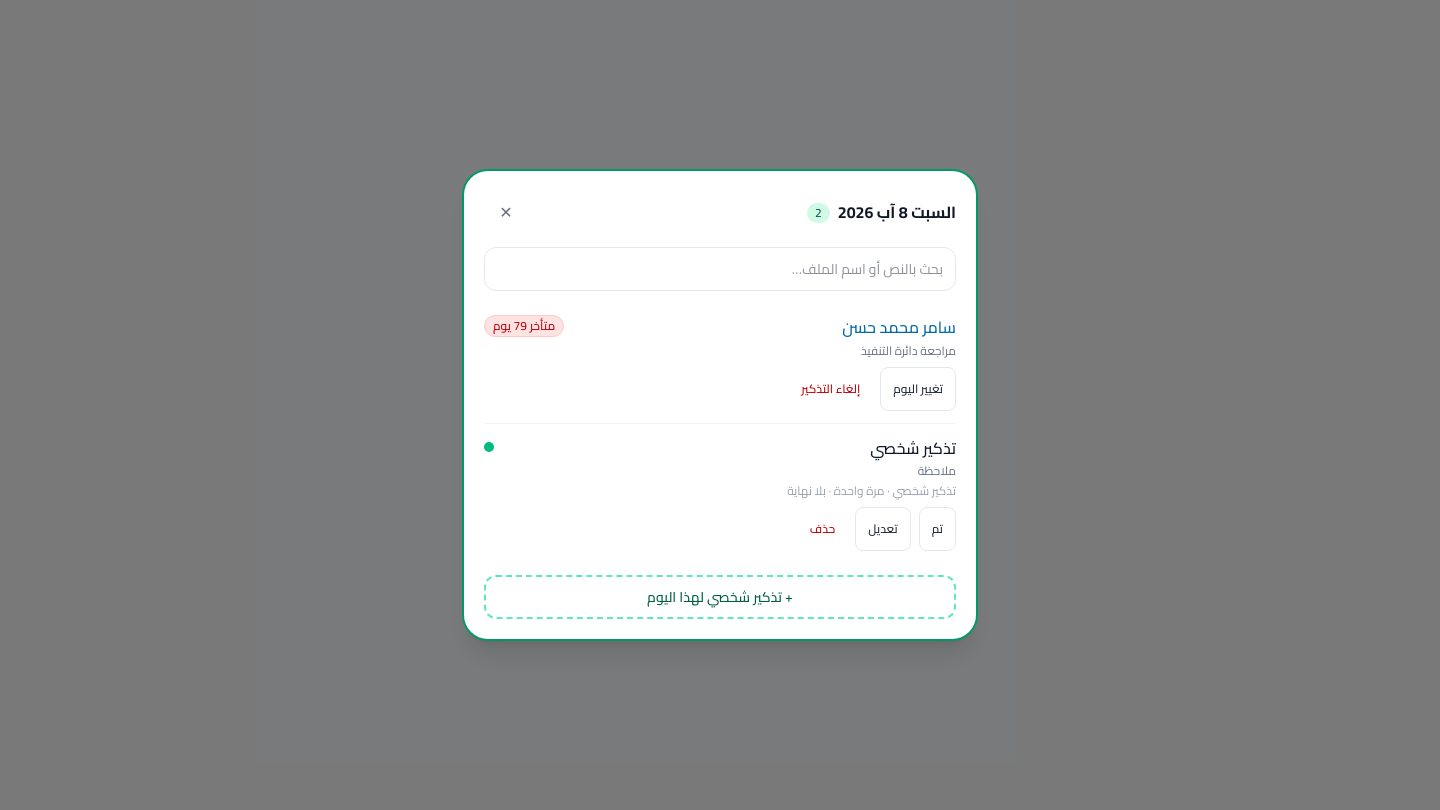
Test: DayRemindersModal › يصفّي بالبحث النصي
Type "شخصي" into the search field with placeholder "بحث بالنص أو اسم الملف…" at (720, 269), box [484,247,956,291]
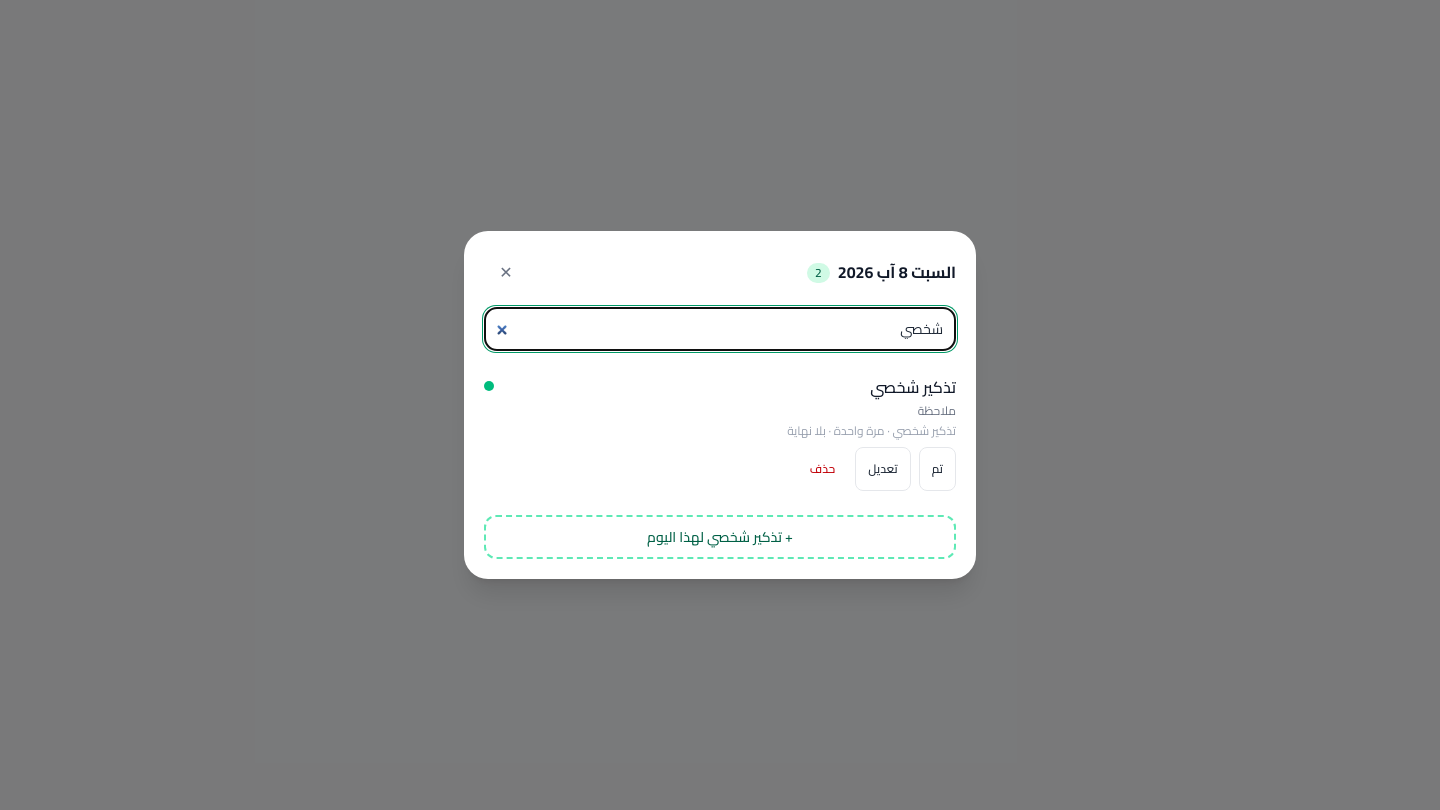
Expected: the text "تذكير شخصي" is shown, [870,375,956,401]
Expected: the link "سامر محمد حسن" is gone
